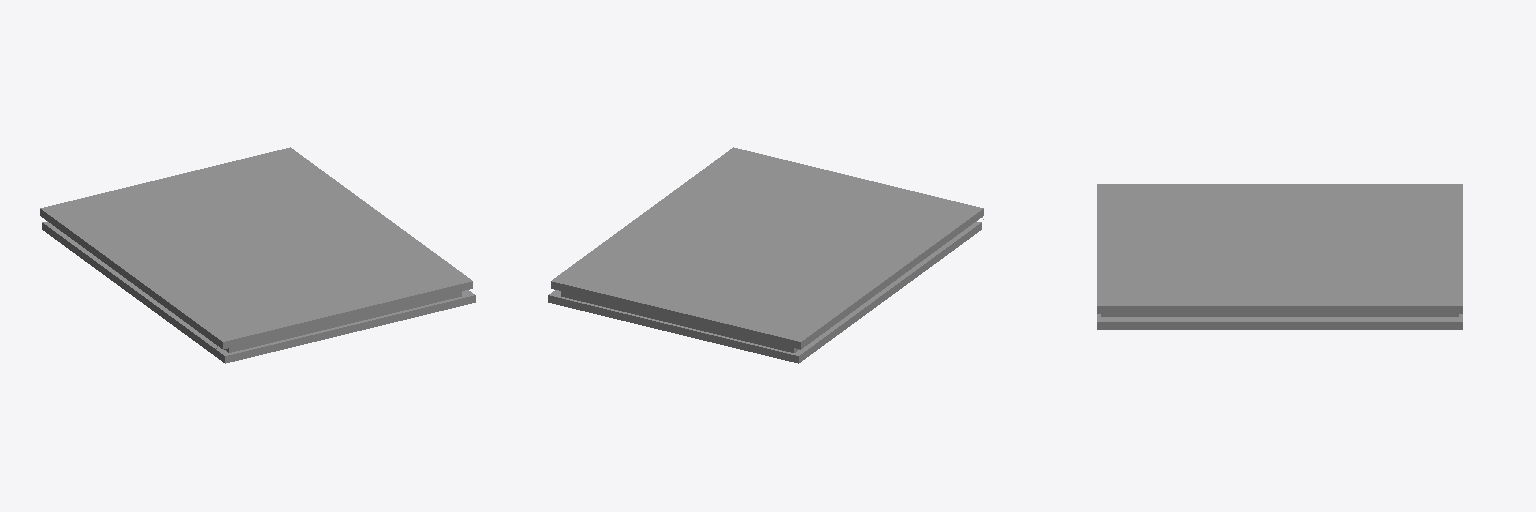
The model's file is Book.obj.
3 views of the same model, side by side, from view 1: azimuth 30°, elevation 25°; view 2: azimuth 150°, elevation 25°; view 3: azimuth 270°, elevation 25° (orthographic).
Visible parts, largest first — view 1: Book__Cube.003; view 2: Book__Cube.003; view 3: Book__Cube.003.
Boxes of the visible parts, box(x1,y1,x2,y2) form: Book__Cube.003: box(40, 147, 475, 363); Book__Cube.003: box(548, 147, 983, 363); Book__Cube.003: box(1097, 184, 1462, 329).
Bounding box in the file's own units: 1.47 × 0.121 × 1.81.